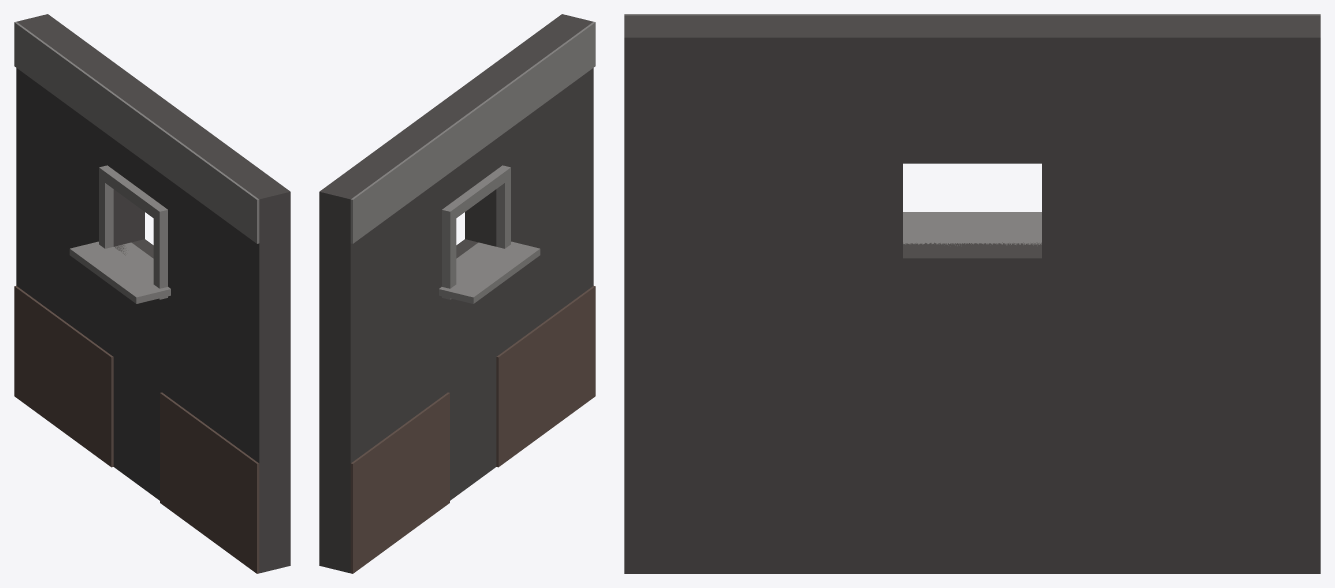
Rendered from B_k_win_small.glb.
3 views of the same model, side by side, from view 1: azimuth 30°, elevation 25°; view 2: azimuth 150°, elevation 25°; view 3: azimuth 270°, elevation 25° (orthographic). The views are drawn at different scales.
Parts seen in each view (by area): view 1: Cube.002, Cube, Cube.006, Cube.001, Cube.003, Cube.004, Cube.010, Cube.005, Cube.009, Cube.008, Cube.007; view 2: Cube, Cube.002, Cube.006, Cube.003, Cube.001, Cube.004, Cube.010, Cube.005, Cube.009, Cube.007, Cube.008; view 3: Cube, Cube.002, Cube.004, Cube.005, Cube.010, Cube.006.
Part boxes in pixels (x1,y1,x2,y2): Cube.002: (162, 120, 290, 573); Cube: (16, 14, 144, 356); Cube.006: (14, 21, 259, 243); Cube.001: (14, 285, 113, 467); Cube.003: (160, 392, 259, 573); Cube.004: (113, 239, 162, 500); Cube.010: (69, 241, 170, 303); Cube.005: (113, 85, 192, 205); Cube.009: (99, 165, 167, 222); Cube.008: (153, 209, 167, 299); Cube.007: (99, 167, 113, 248); Cube: (319, 120, 447, 573); Cube.002: (465, 14, 593, 355); Cube.006: (350, 21, 595, 243); Cube.003: (496, 285, 595, 467); Cube.001: (350, 392, 449, 573); Cube.004: (447, 239, 496, 500); Cube.010: (439, 241, 540, 303); Cube.005: (417, 85, 496, 205); Cube.009: (442, 165, 510, 222); Cube.007: (442, 210, 456, 299); Cube.008: (496, 178, 510, 248); Cube: (1042, 15, 1320, 573); Cube.002: (624, 15, 902, 573); Cube.004: (901, 242, 1043, 573); Cube.005: (901, 15, 1043, 163); Cube.010: (903, 212, 1041, 245); Cube.006: (624, 14, 1320, 15).
Bounding box in the file's own units: 0.63 × 3.4 × 4.
